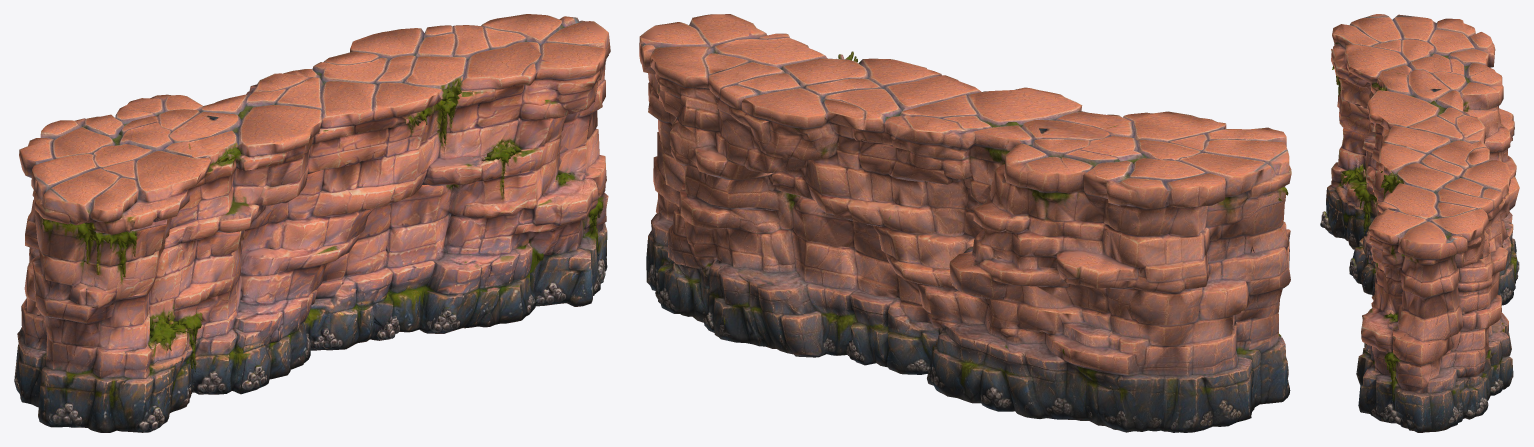
File: cliff-run.glb
3 renders of one model, left to right at view 1: azimuth 30°, elevation 25°; view 2: azimuth 150°, elevation 25°; view 3: azimuth 270°, elevation 25°, orthographic. The views are drawn at different scales.
Parts seen in each view (by area): view 1: Mesh_0; view 2: Mesh_0; view 3: Mesh_0.
Part boxes in pixels (left/top/right/bottom): Mesh_0: left=14, top=14, right=610, bottom=432; Mesh_0: left=639, top=14, right=1291, bottom=432; Mesh_0: left=1320, top=14, right=1519, bottom=432.
Size of the model in its own units: 25.92 by 9.91 by 9.31.
1 material, 1 textured.
